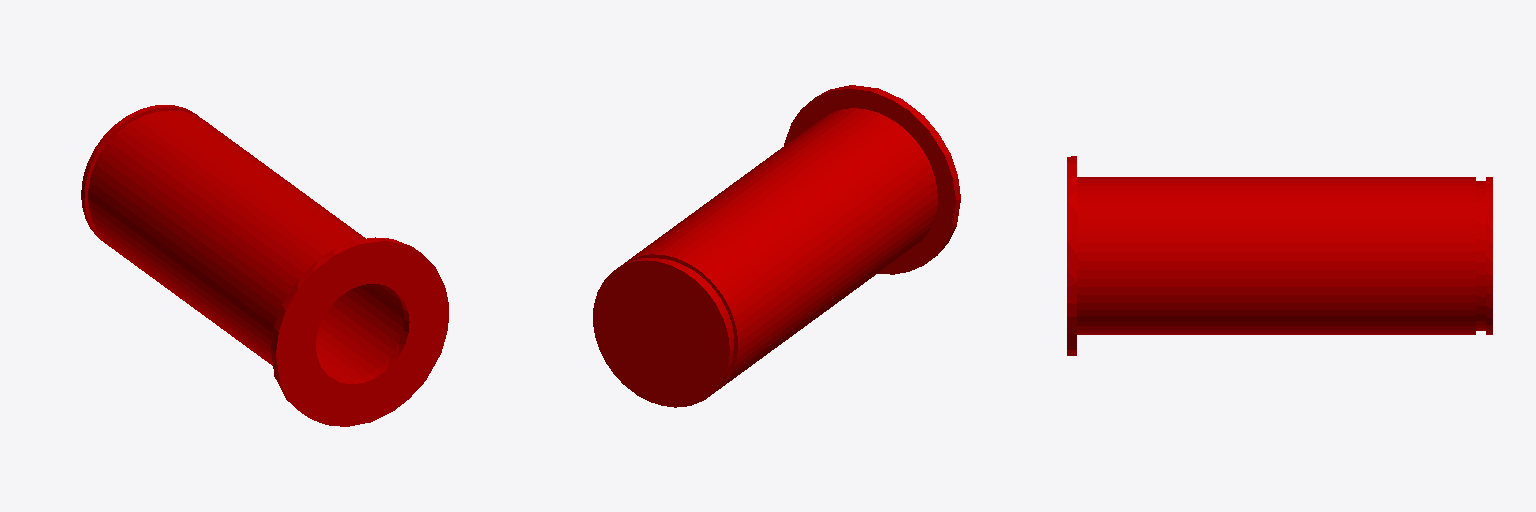
The model's file is red_stack.obj.
3 renders of one model, left to right at view 1: azimuth 30°, elevation 25°; view 2: azimuth 150°, elevation 25°; view 3: azimuth 270°, elevation 25°, orthographic.
Parts seen in each view (by area): view 1: ShapeIndexedFaceSet.034_ShapeIndexedFaceSet.037; view 2: ShapeIndexedFaceSet.034_ShapeIndexedFaceSet.037; view 3: ShapeIndexedFaceSet.034_ShapeIndexedFaceSet.037.
Boxes of the visible parts, <box> form: ShapeIndexedFaceSet.034_ShapeIndexedFaceSet.037: <box>81,105,448,426</box>; ShapeIndexedFaceSet.034_ShapeIndexedFaceSet.037: <box>593,85,960,407</box>; ShapeIndexedFaceSet.034_ShapeIndexedFaceSet.037: <box>1067,156,1492,355</box>.
Size of the model in its own units: 0.0763 by 0.0764 by 0.1626.